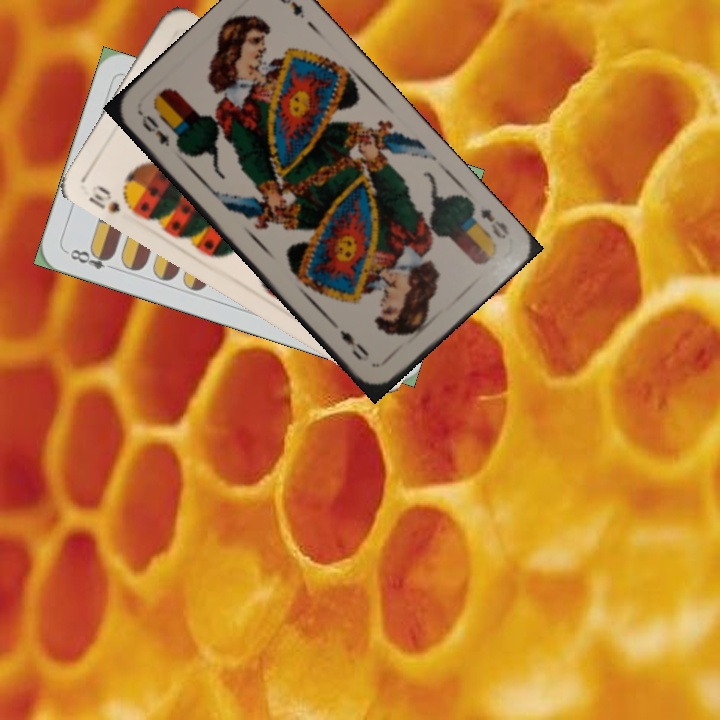E8: (63, 245, 120, 273)
EO: (135, 108, 173, 150), (475, 205, 513, 242)
S10: (84, 180, 124, 215)
